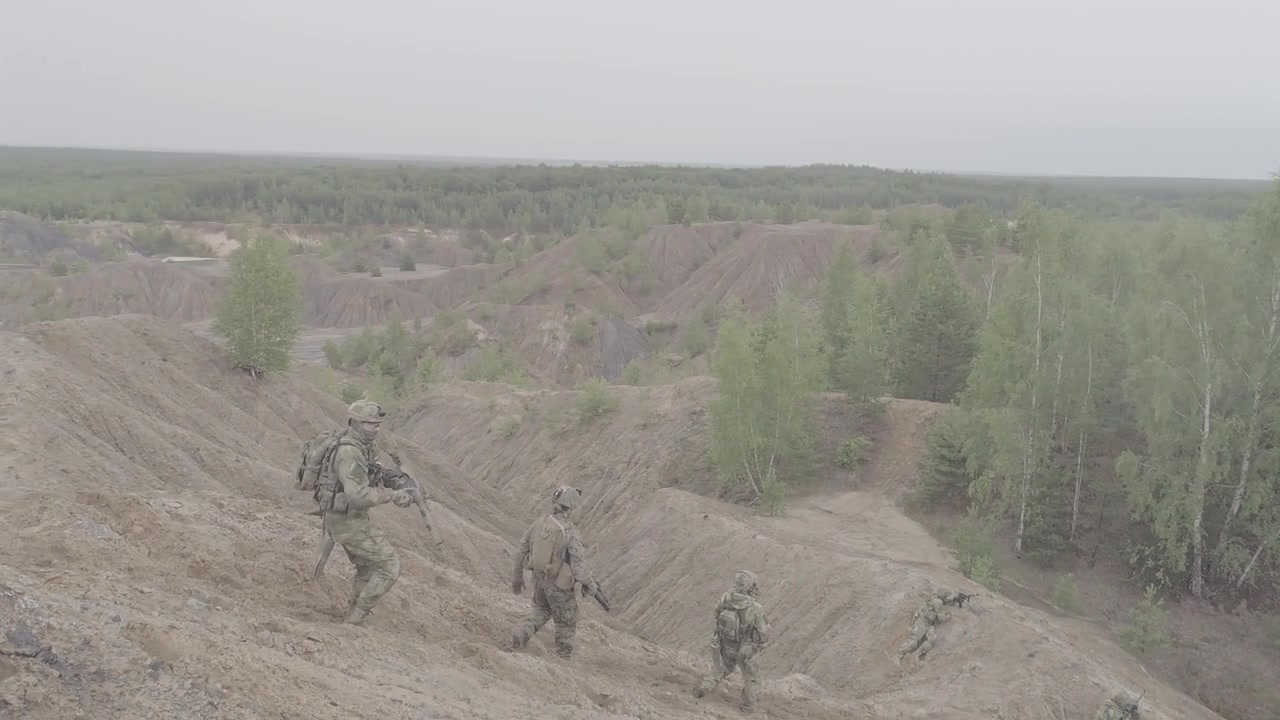person: (307, 400, 416, 626), (489, 480, 594, 659)
